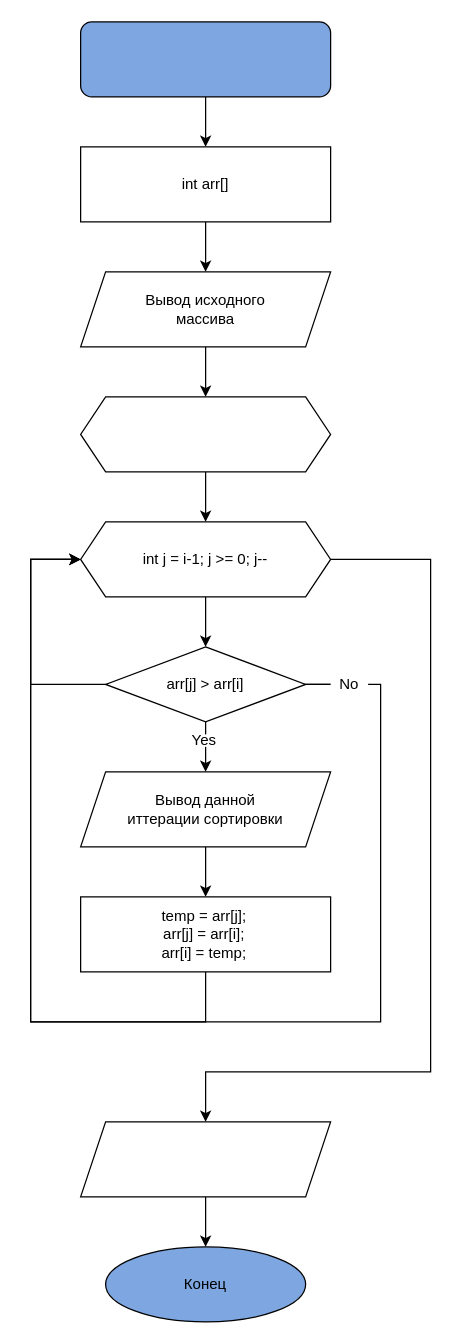
This 463x1344 diagram has some shape labels left out. Here are the shapes that lost their labels. From the top down, the centre of each, then its label:
At pixel 205 59: "Начало".
At pixel 205 434: "int i = size; i > 0; i--".
At pixel 205 1159: "Вывод отсортированного массива".
